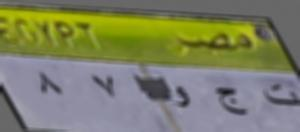7: (90, 69, 116, 105)
8: (33, 68, 66, 102)
jeem: (214, 82, 249, 120)
taa: (258, 80, 300, 111)
waw: (169, 80, 193, 114)
